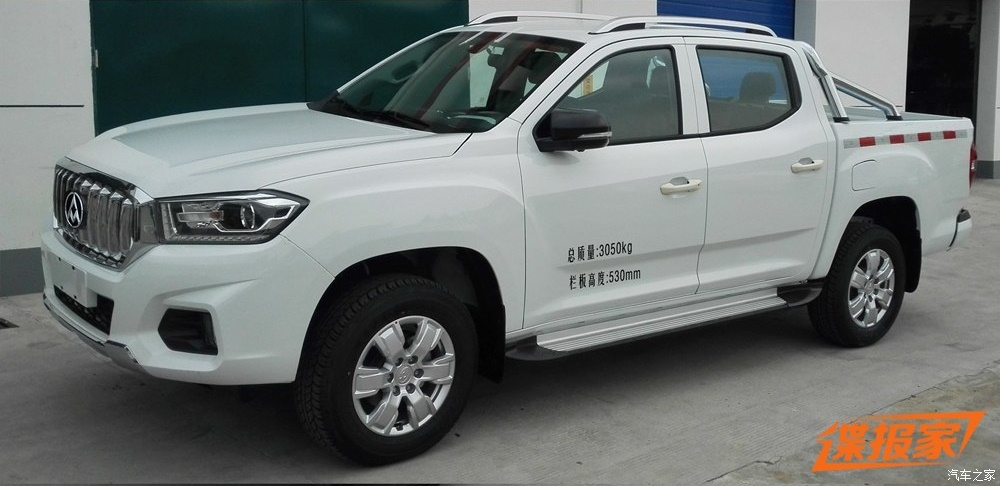pickup: (39, 12, 973, 452)
